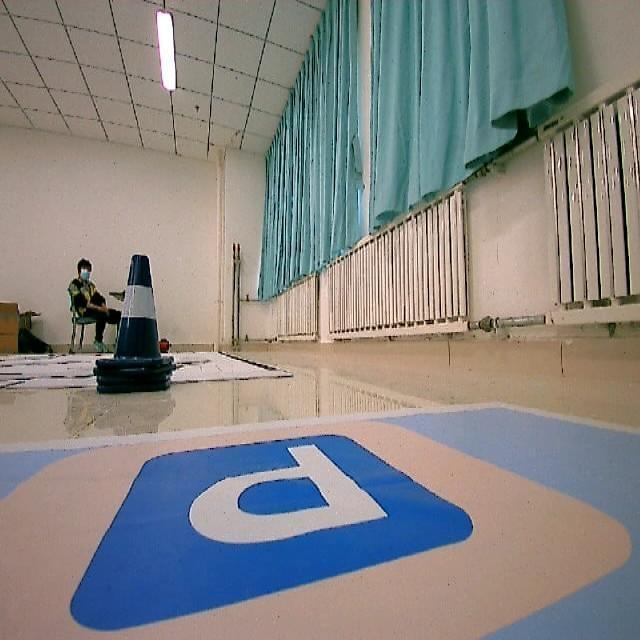obstacle: (96, 243, 179, 404)
